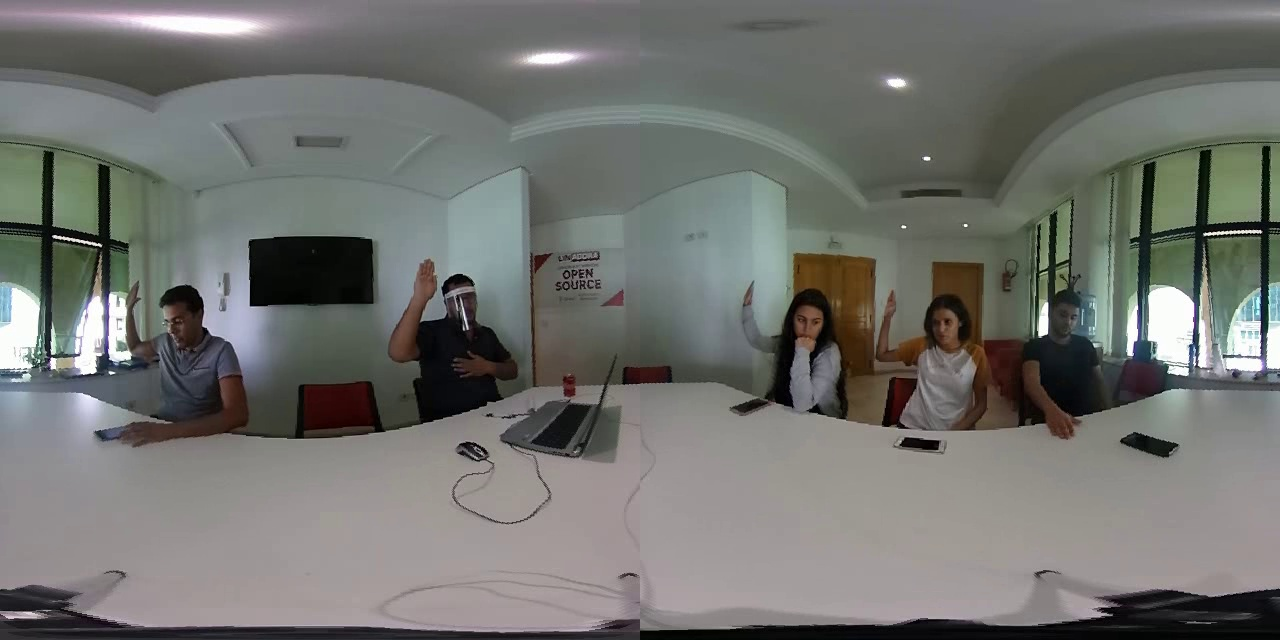person: (101, 264, 256, 453), (360, 249, 520, 401), (862, 271, 994, 435), (713, 246, 842, 406), (1015, 283, 1126, 440)
voting: (385, 256, 444, 364), (729, 265, 776, 350), (118, 276, 158, 365), (874, 286, 911, 364)
